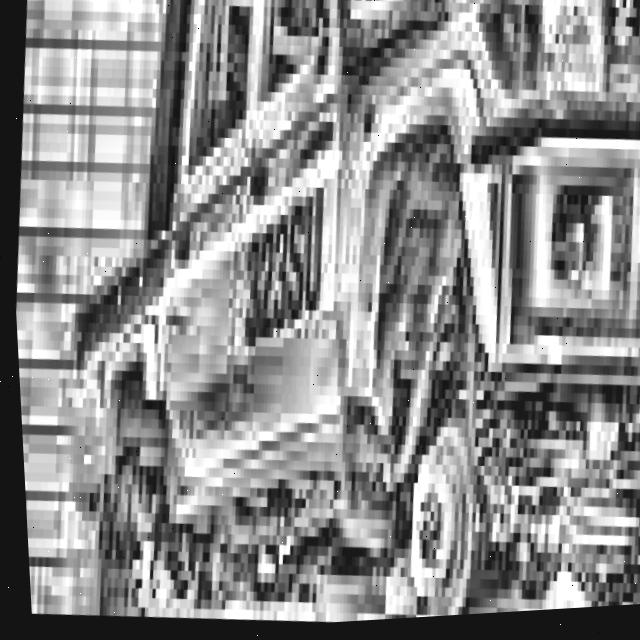light_vehicle: (8, 0, 640, 640)
